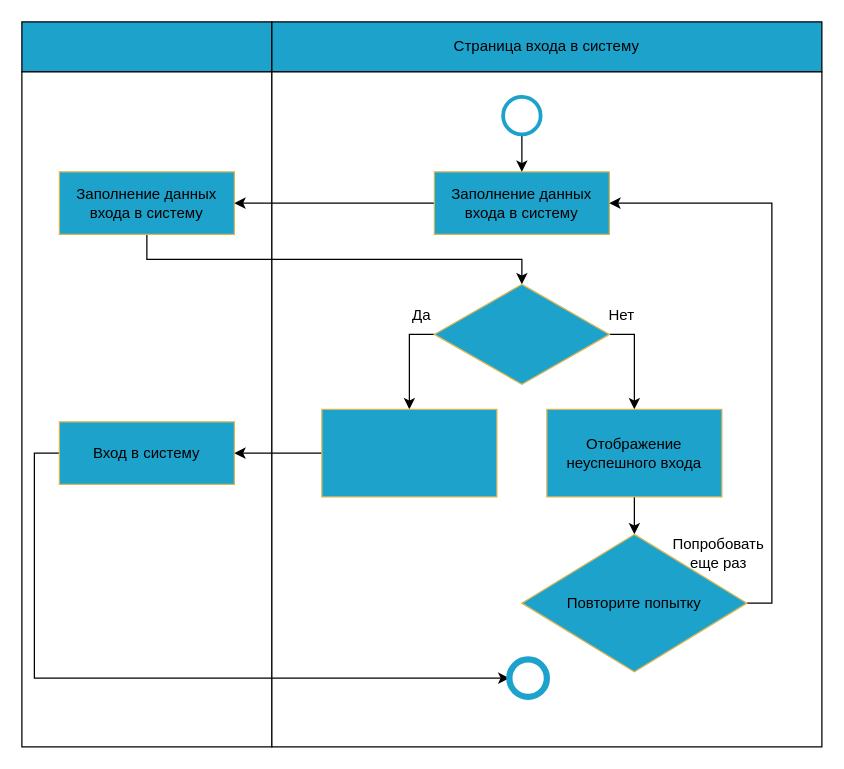
Image size: 844x769. Some labels were removed from this diagram. Each missing label, with the centre of its shape:
Информация правильная?: [521,333]
Отображение успешного входа: [409,452]
Пользователь: [146,46]
